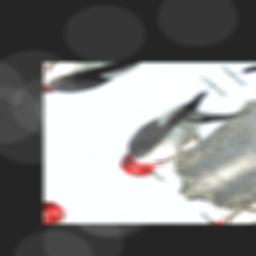Woodpecker: (95, 87, 256, 193)
